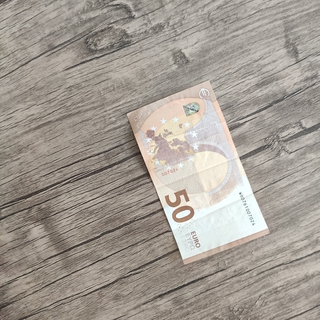50EUROBack: (124, 78, 271, 266)
